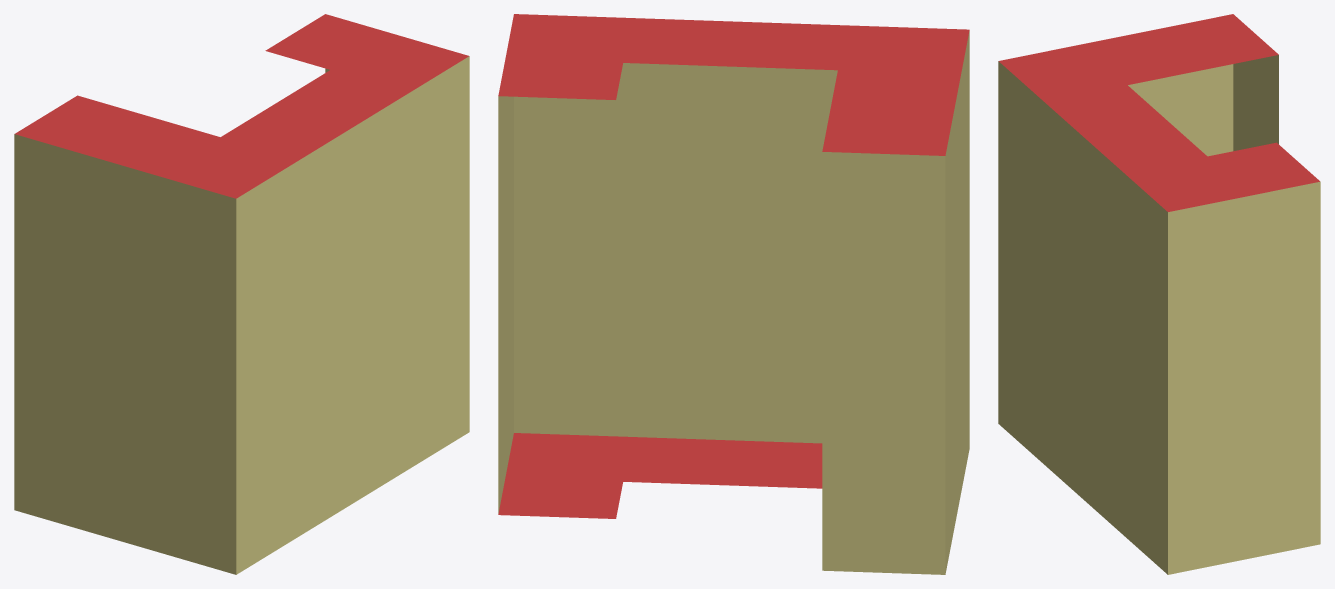
3 renders of one model, left to right at view 1: azimuth 30°, elevation 25°; view 2: azimuth 150°, elevation 25°; view 3: azimuth 270°, elevation 25°, orthographic. The views are drawn at different scales.
Bounding box in the file's own units: 8.03 × 5.52 × 6.85.
